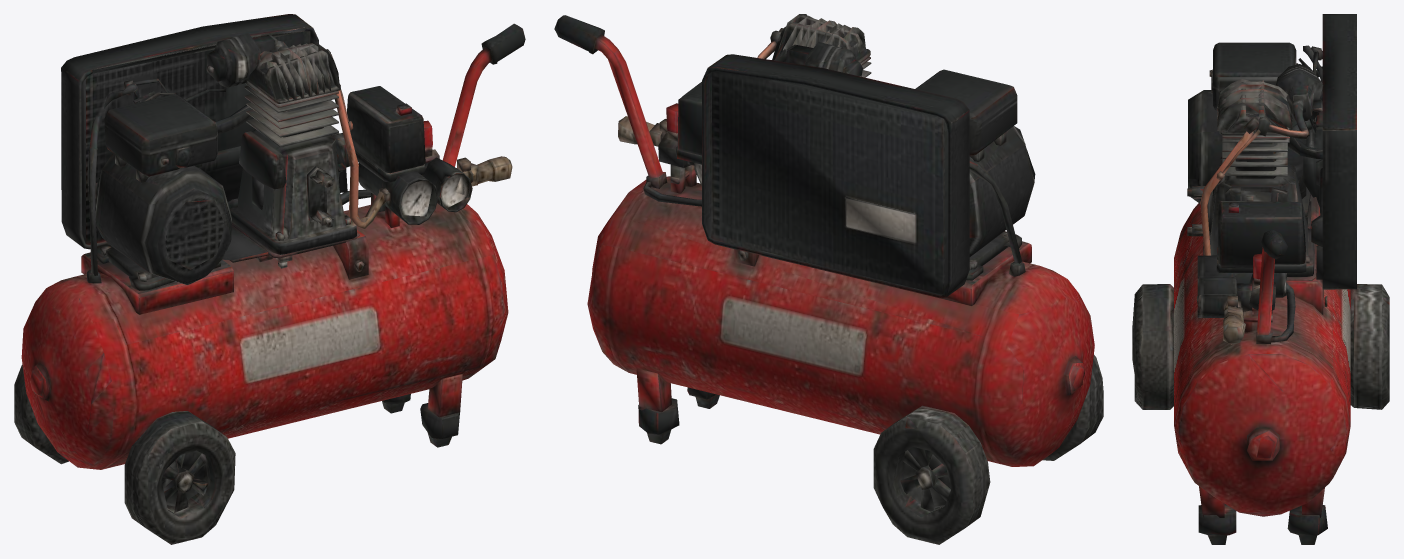
Rendered from p7-air-compressor-t25.glb.
3 views of the same model, side by side, from view 1: azimuth 30°, elevation 25°; view 2: azimuth 150°, elevation 25°; view 3: azimuth 270°, elevation 25° (orthographic). The views are drawn at different scales.
Parts seen in each view (by area): view 1: p7-air-compressor-t25; view 2: p7-air-compressor-t25; view 3: p7-air-compressor-t25.
Part boxes in pixels (x1,y1,x2,y2): p7-air-compressor-t25: [14, 14, 525, 544]; p7-air-compressor-t25: [554, 14, 1103, 544]; p7-air-compressor-t25: [1132, 14, 1389, 544].
Bounding box in the file's own units: 0.75 × 0.6 × 0.35.
1 material, 1 textured.
